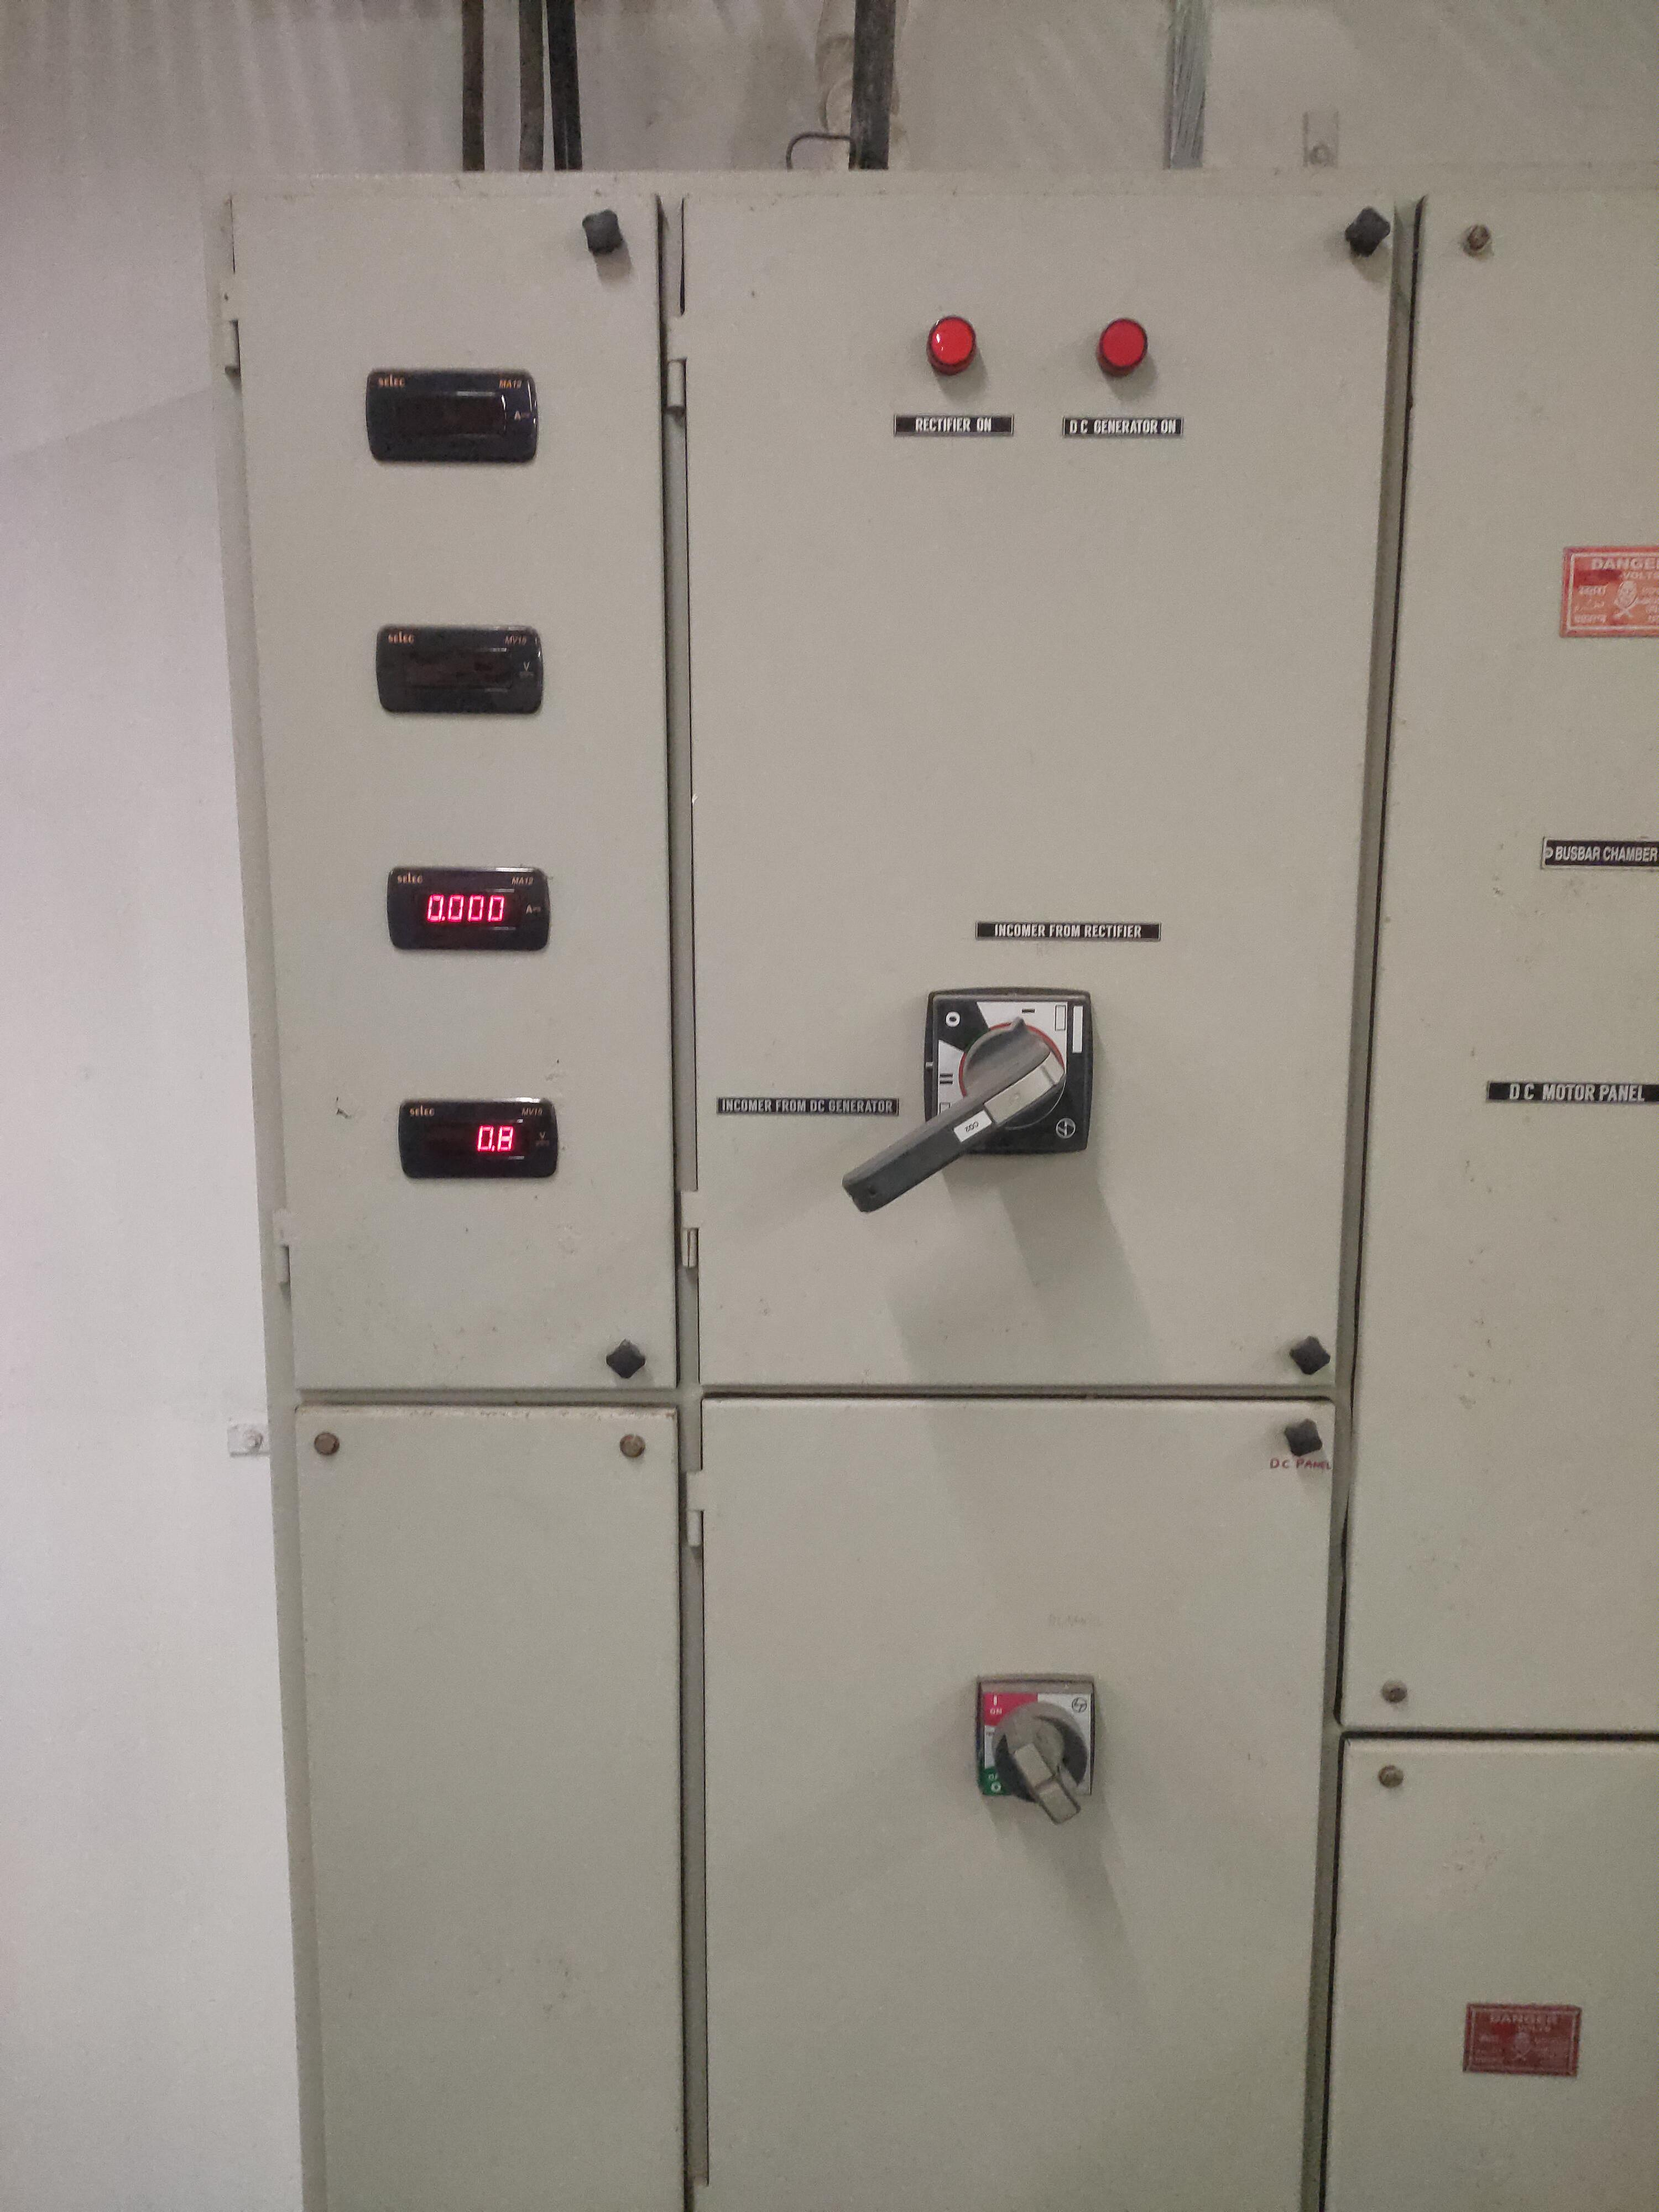Knob 1: (803, 948, 1124, 1221)
Knob 2: (948, 1639, 1147, 1864)
Light Indications: (873, 277, 1204, 458)
